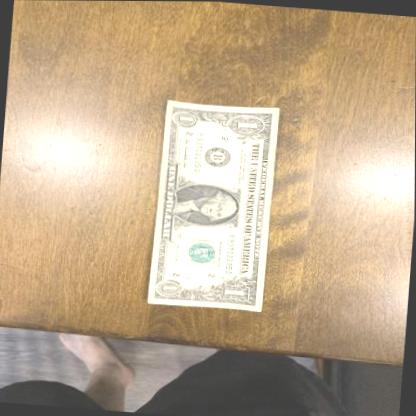one-front: (146, 99, 280, 314)
